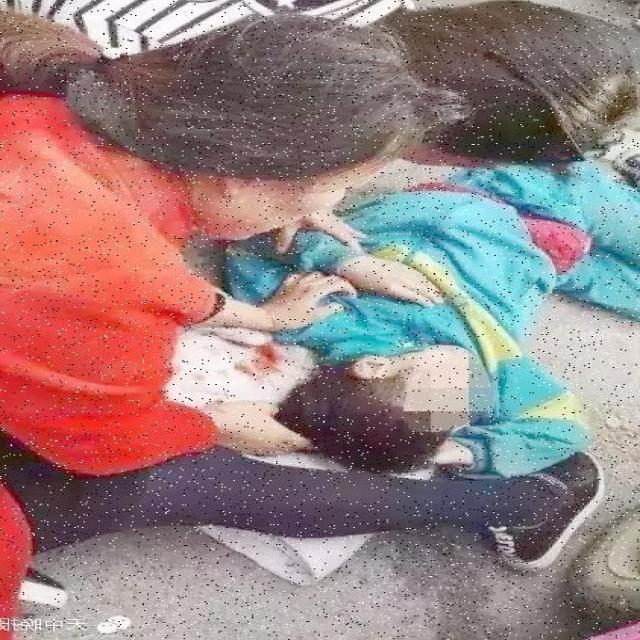fall: (290, 166, 638, 458)
